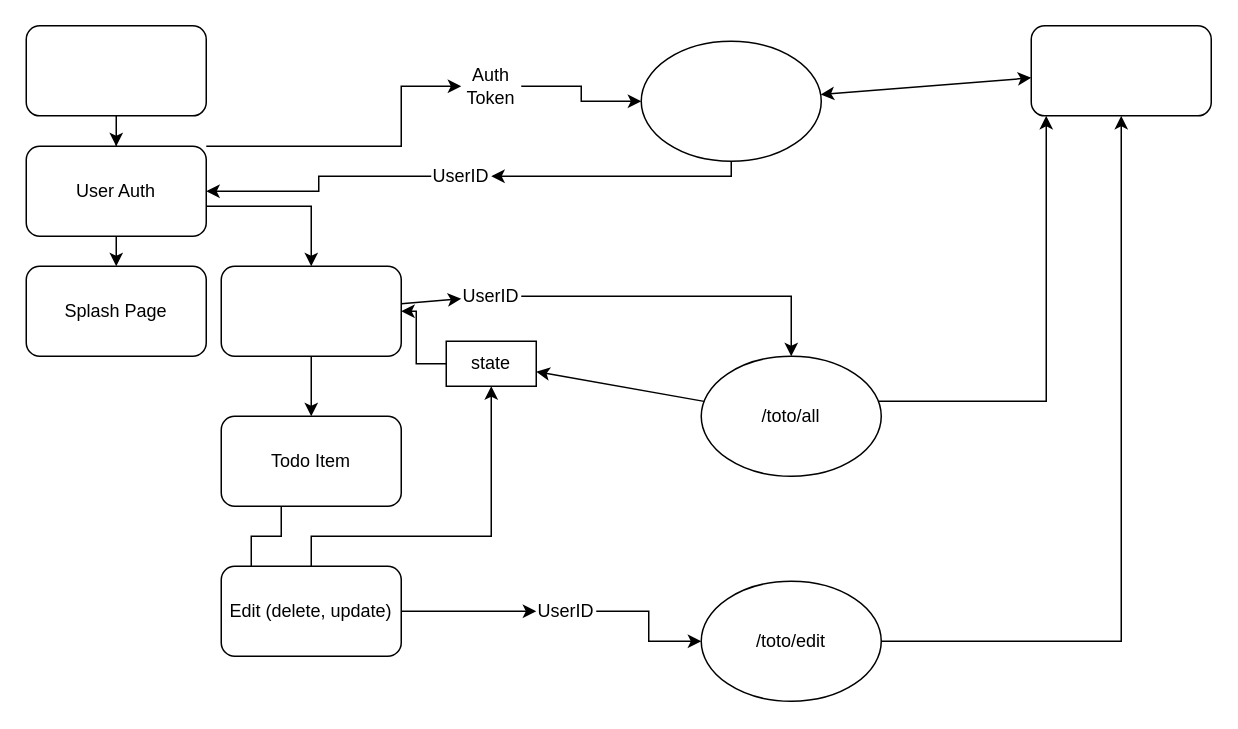
The diagram is 1238 pixels wide and 729 high, and some of its shapes have lost their labels. Here are the shapes that lost their labels. From the top down, the centre of each, then its label:
the point at 115,70: Front-End
the point at 1120,70: Database
the point at 730,100: /user
the point at 310,310: Todo List
